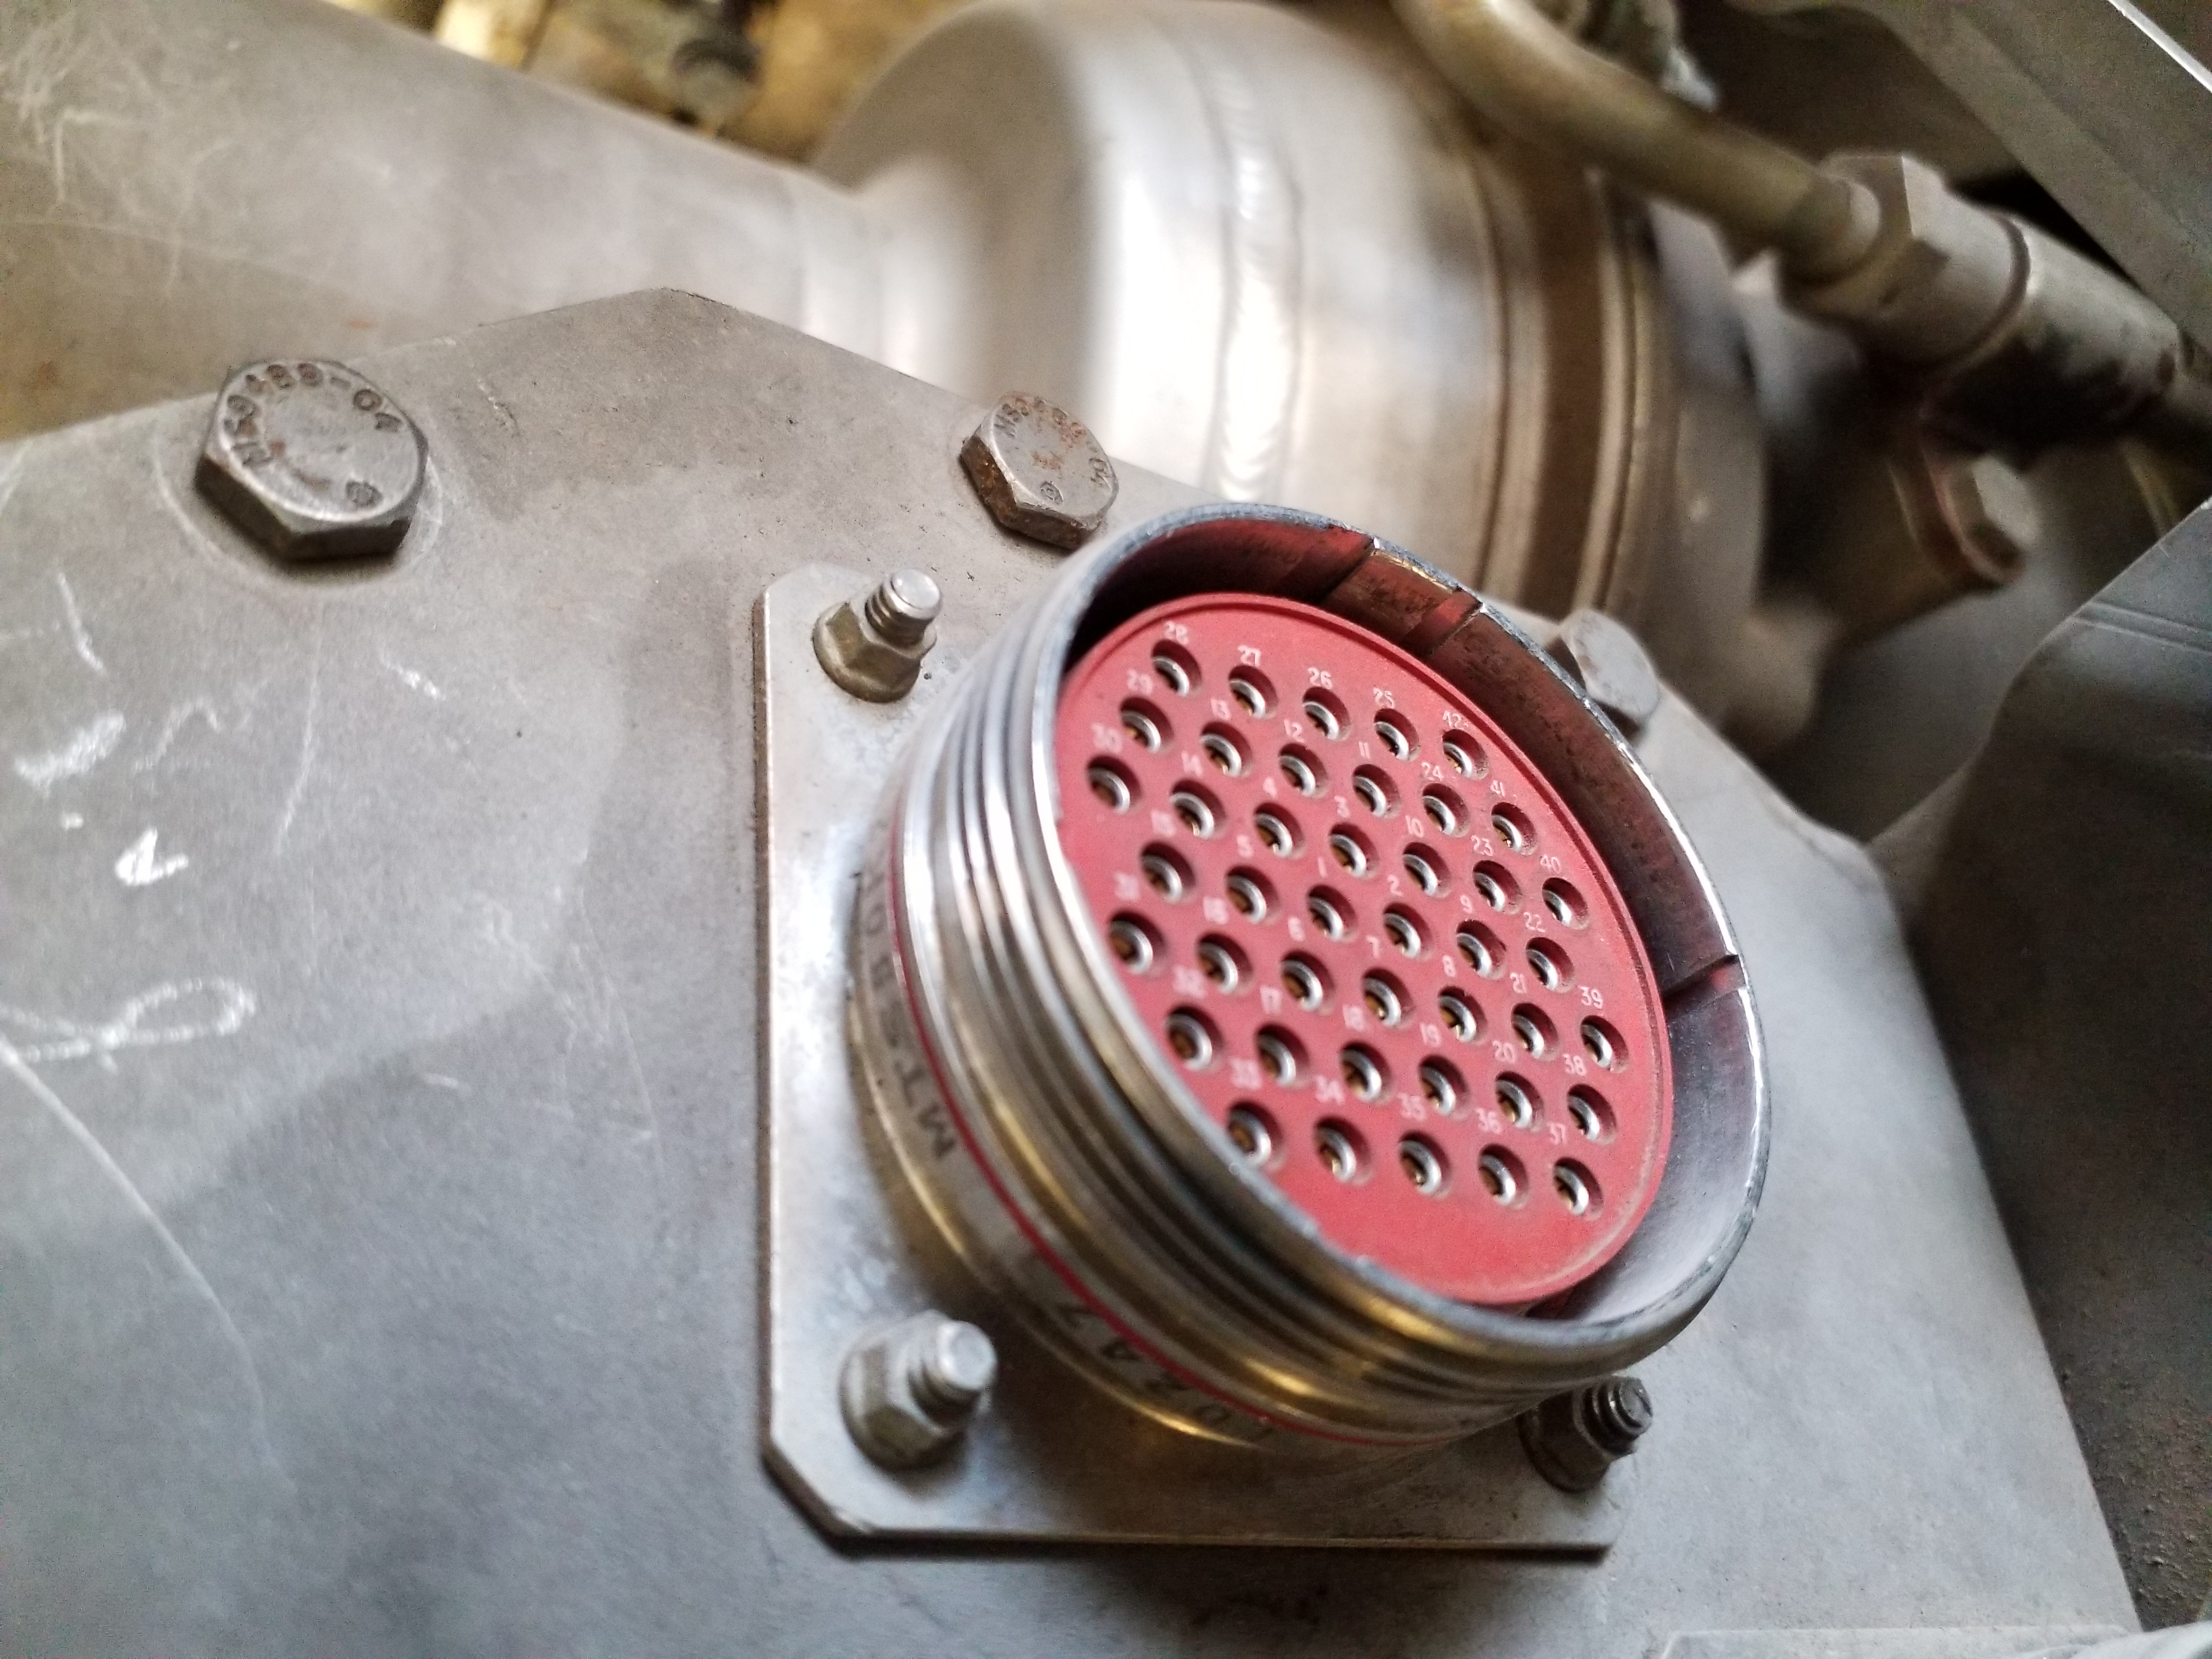inletnumbers: (967, 453, 1808, 1419)
